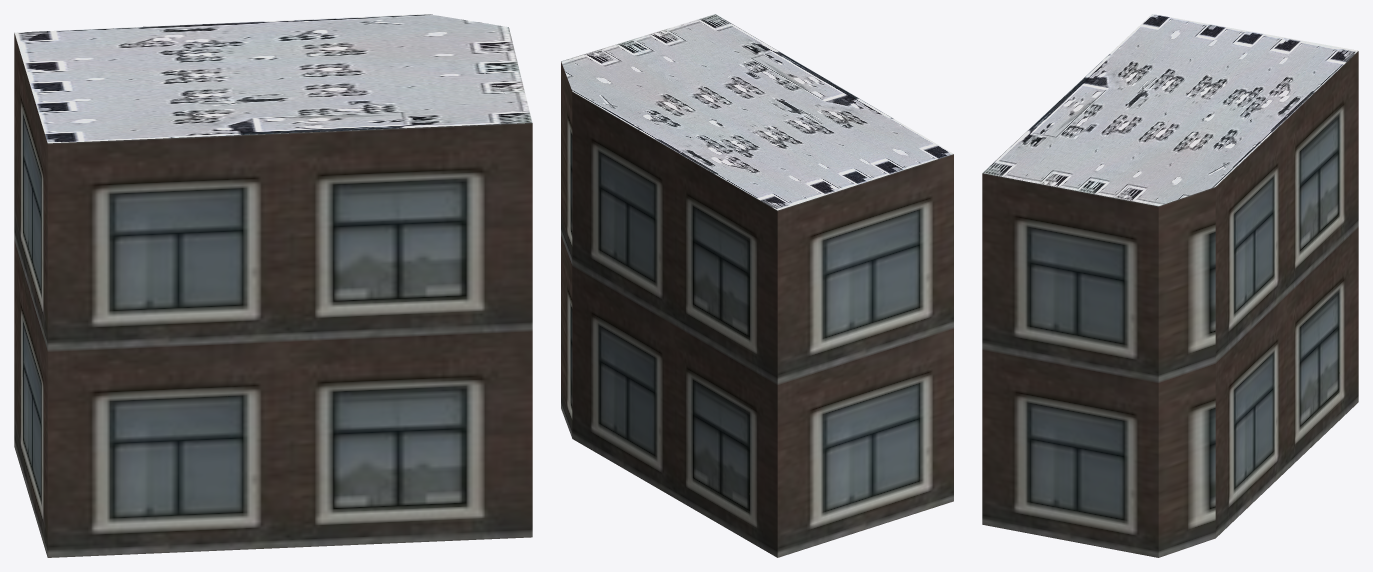
The model's file is ResTex__5014.fbx.
3 renders of one model, left to right at view 1: azimuth 30°, elevation 25°; view 2: azimuth 150°, elevation 25°; view 3: azimuth 270°, elevation 25°, orthographic. The views are drawn at different scales.
Parts seen in each view (by area): view 1: CityEngineMaterial_16_m, CityEngineMaterial_15_m; view 2: CityEngineMaterial_16_m, CityEngineMaterial_15_m; view 3: CityEngineMaterial_16_m, CityEngineMaterial_15_m.
Part boxes in pixels (left/top/right/bottom): CityEngineMaterial_16_m: left=14, top=33, right=532, bottom=557; CityEngineMaterial_15_m: left=14, top=14, right=532, bottom=143; CityEngineMaterial_16_m: left=561, top=61, right=953, bottom=557; CityEngineMaterial_15_m: left=561, top=14, right=953, bottom=210; CityEngineMaterial_16_m: left=982, top=51, right=1358, bottom=557; CityEngineMaterial_15_m: left=982, top=14, right=1358, bottom=206.
Size of the model in its own units: 7.04 by 6 by 5.82.
Materials: 2 (2 with a texture image).
